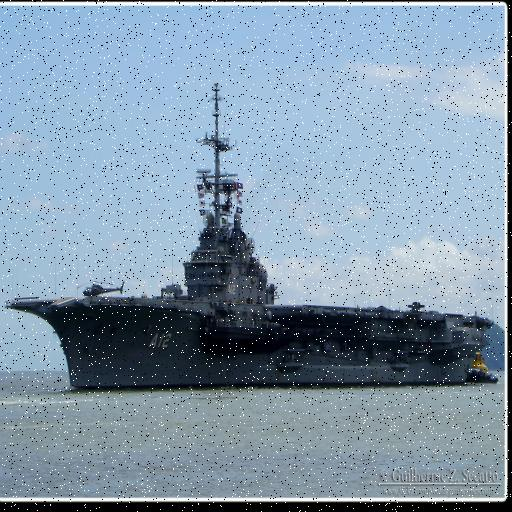Portanaves: (5, 81, 496, 401)
